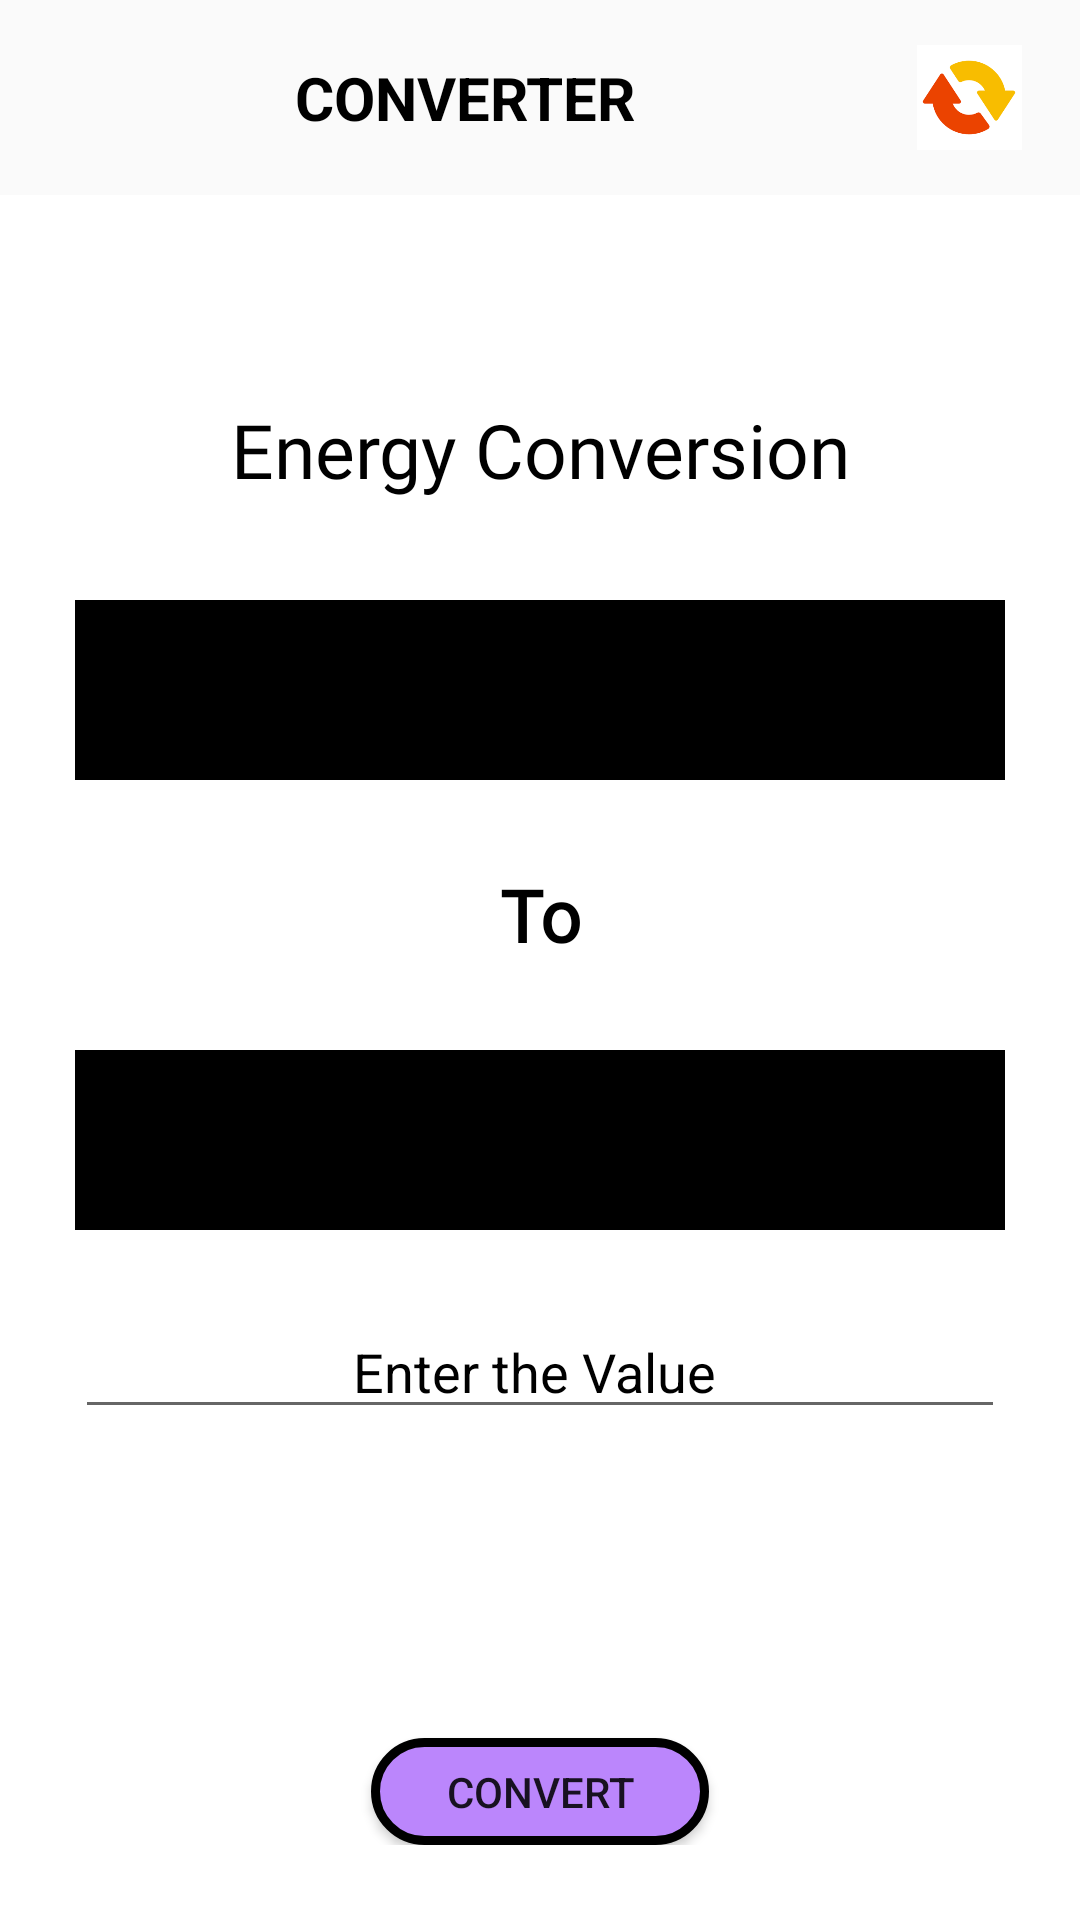

Locate icon controls on the screen. Image size 1080px×1920px, boxes as {"left": x1, "top": y1, "right": x2, "bottom": y2}.
converticon: {"left": 923, "top": 60, "right": 1016, "bottom": 135}
